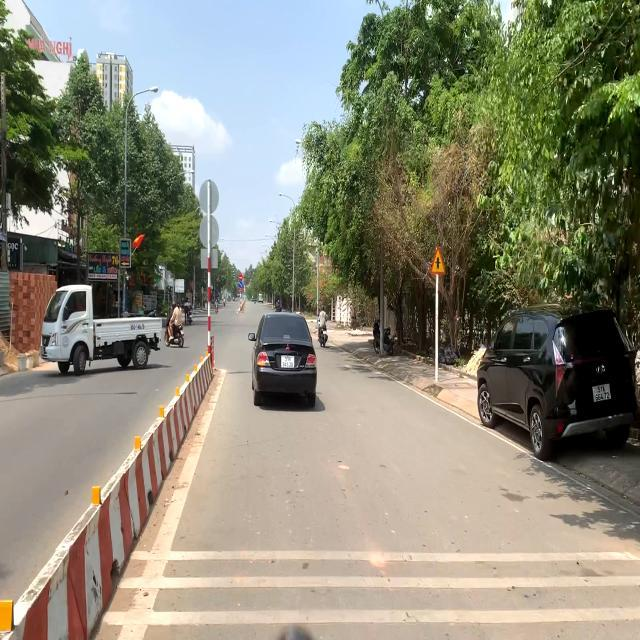W-207a: (429, 247, 447, 277)
